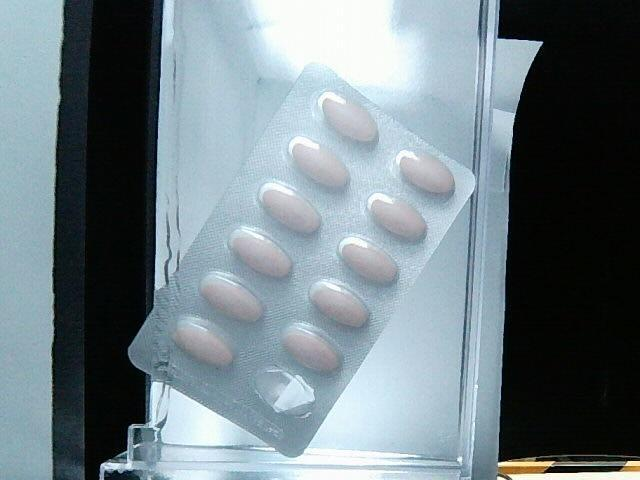Light Front: (129, 65, 475, 455)
No Pill Front: (245, 356, 329, 429)
Pill Front: (227, 225, 296, 282), (198, 271, 267, 325), (257, 183, 323, 239), (288, 138, 350, 195), (281, 321, 345, 376), (337, 236, 403, 289), (393, 148, 456, 203), (171, 318, 234, 372), (367, 193, 430, 246), (317, 93, 379, 145), (308, 280, 372, 329)
